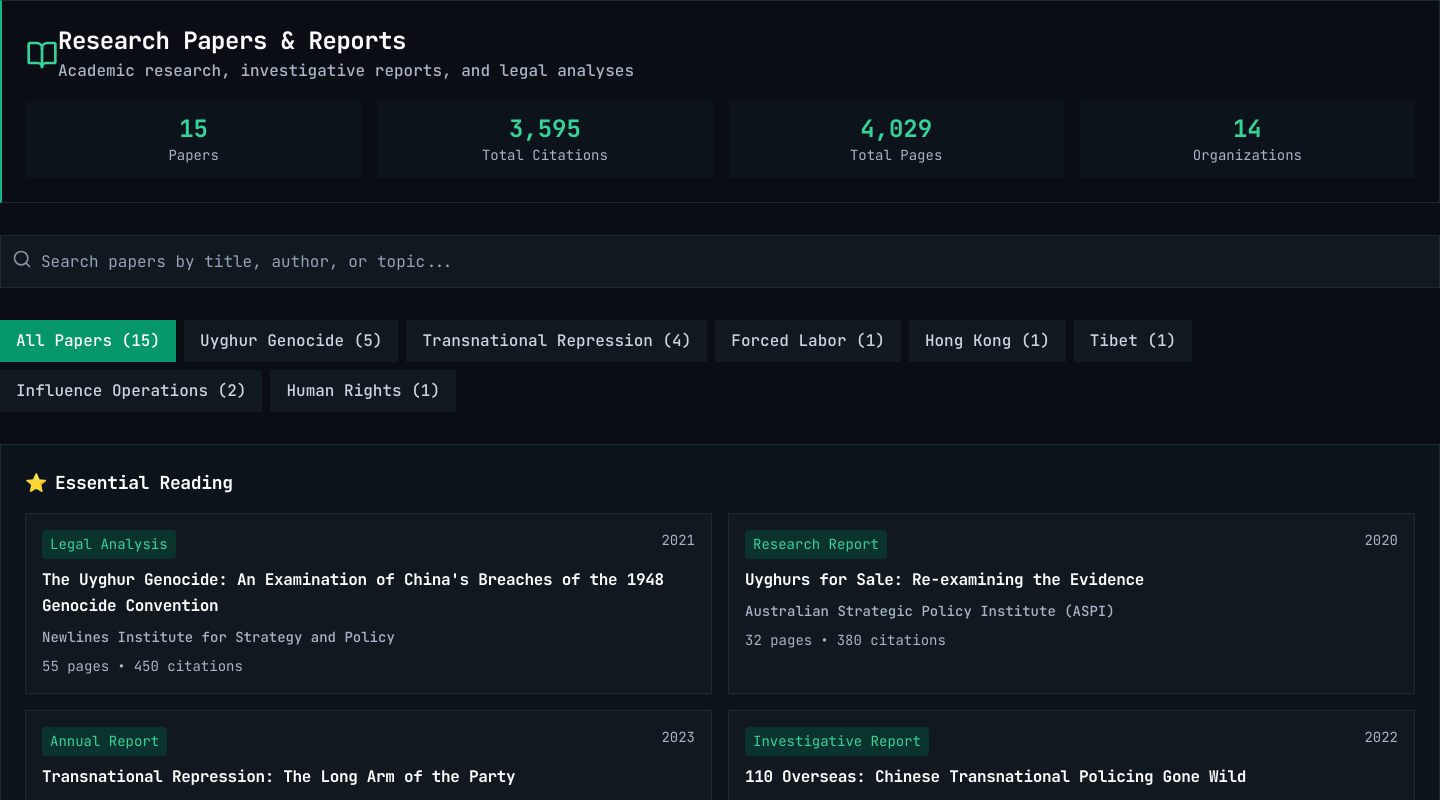
it: ResearchPapers › hides essential reading section when a category is selected
This screenshot has width=1440, height=800.
Step 1. Click the button "Uyghur Genocide (5)" → (291, 341), box top-left (184, 320), bottom-right (398, 362)
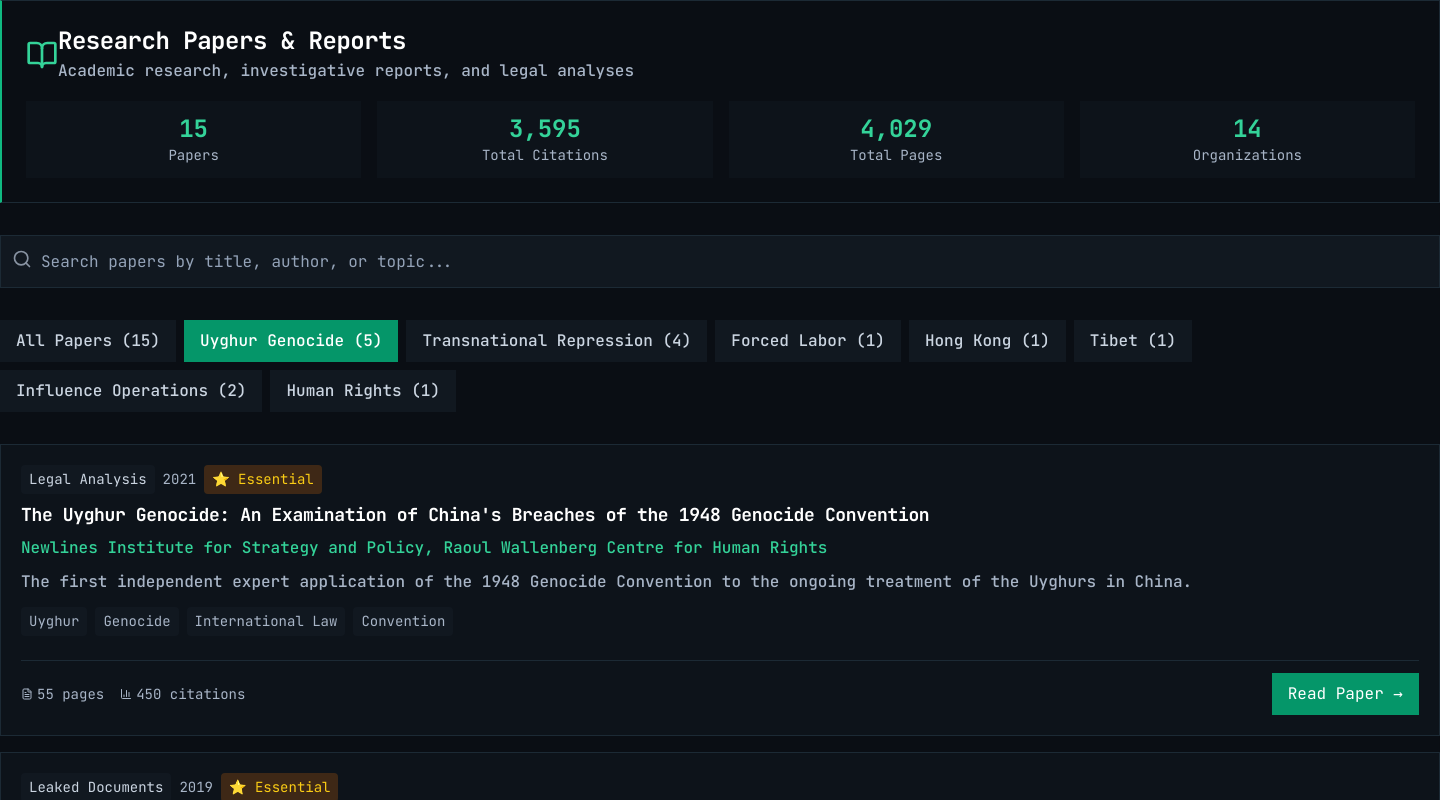
Result: the heading "Essential Reading" is gone
